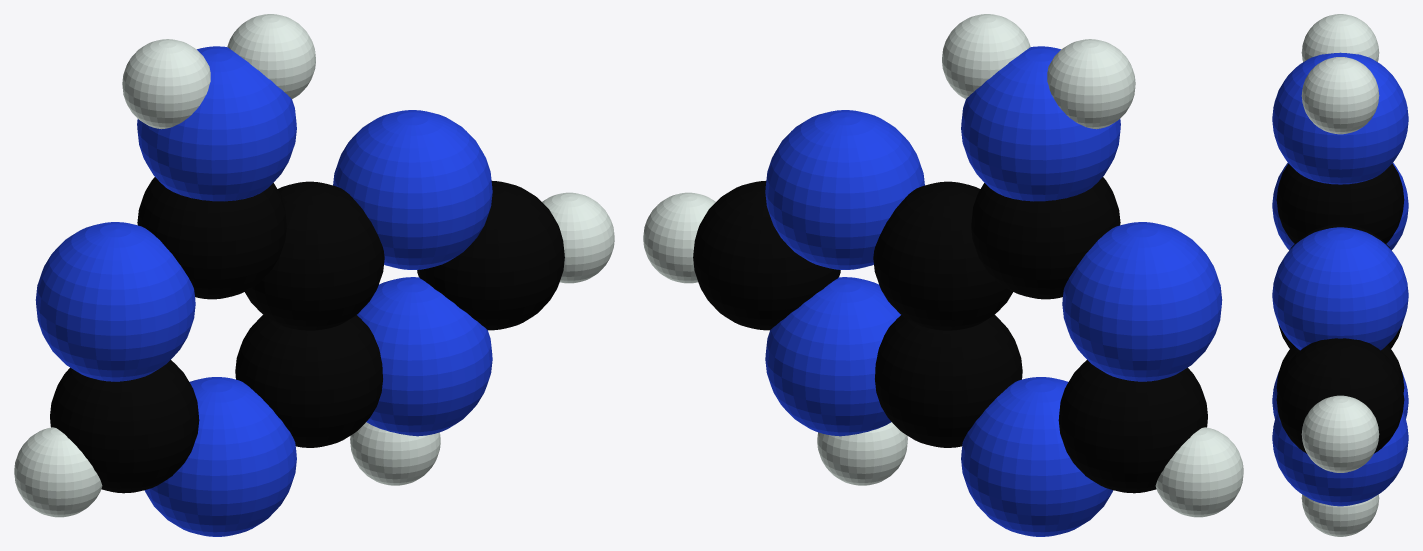
Rendered from Adenina.glb.
3 renders of one model, left to right at view 1: azimuth 30°, elevation 25°; view 2: azimuth 150°, elevation 25°; view 3: azimuth 270°, elevation 25°, orthographic. The views are drawn at different scales.
Parts seen in each view (by area): view 1: Carbono.003; view 2: Carbono.003; view 3: Carbono.003.
Boxes of the visible parts, box(x1,y1,x2,y2) form: Carbono.003: box(14, 14, 614, 536); Carbono.003: box(643, 14, 1243, 536); Carbono.003: box(1272, 14, 1408, 536).
Size of the model in its own units: 2.51 by 2.03 by 0.5916.
